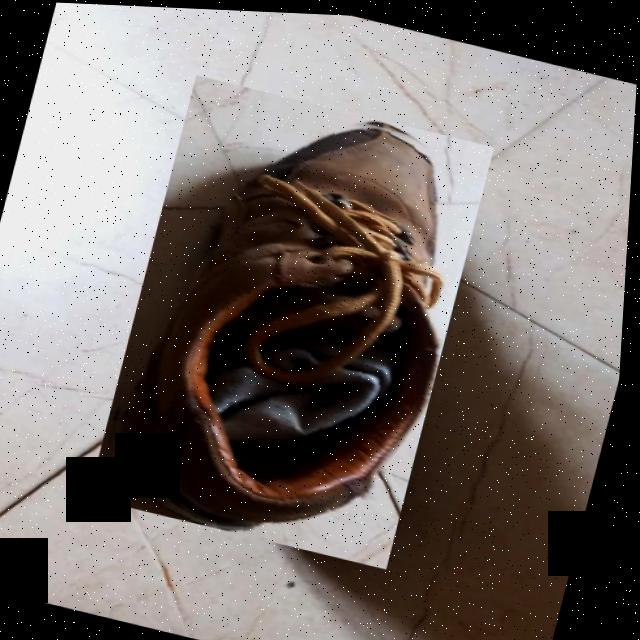shoe: (92, 71, 498, 569)
